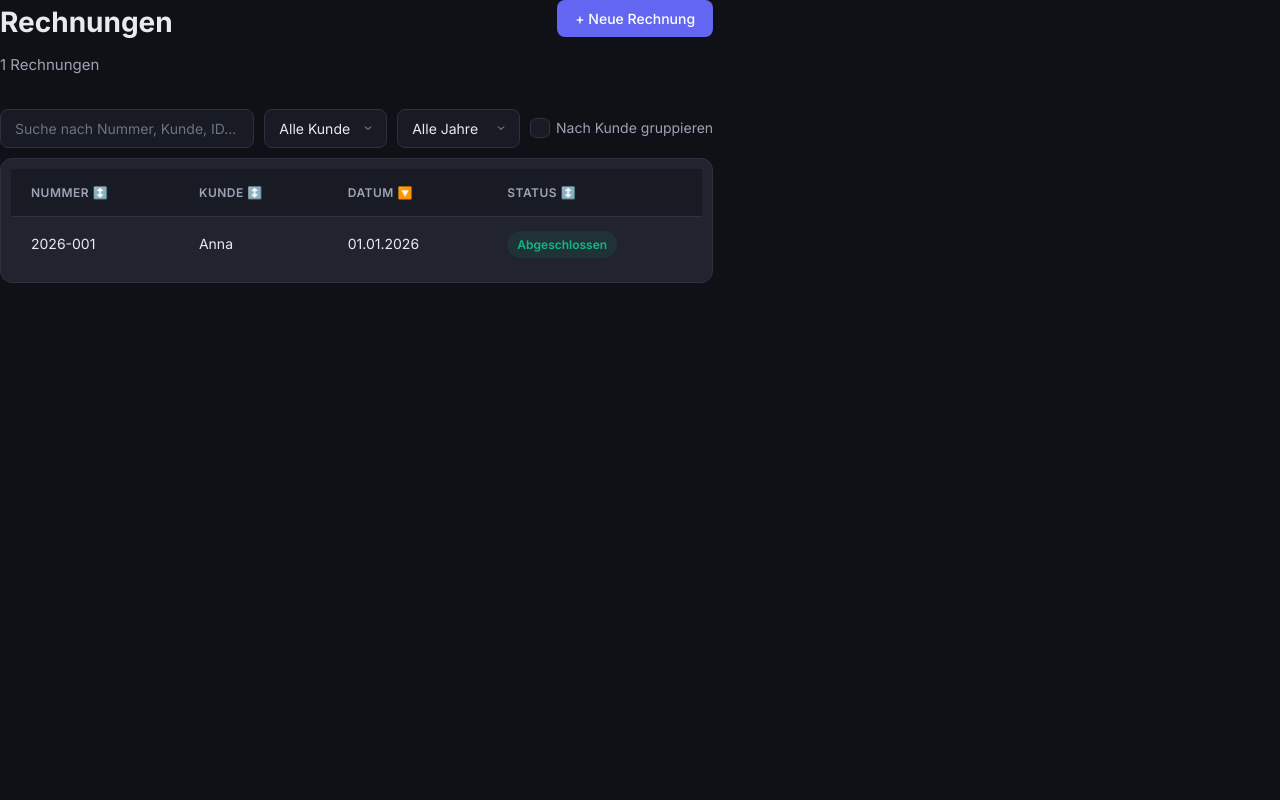
Test: Finale Rechnung ist gesperrt (#283) › Admin-Reset › sendet nichts bei zu kurzer Begründung
This screenshot has width=1280, height=800.
Click the text "2026-001" at (95,244), box [11, 216, 179, 272]
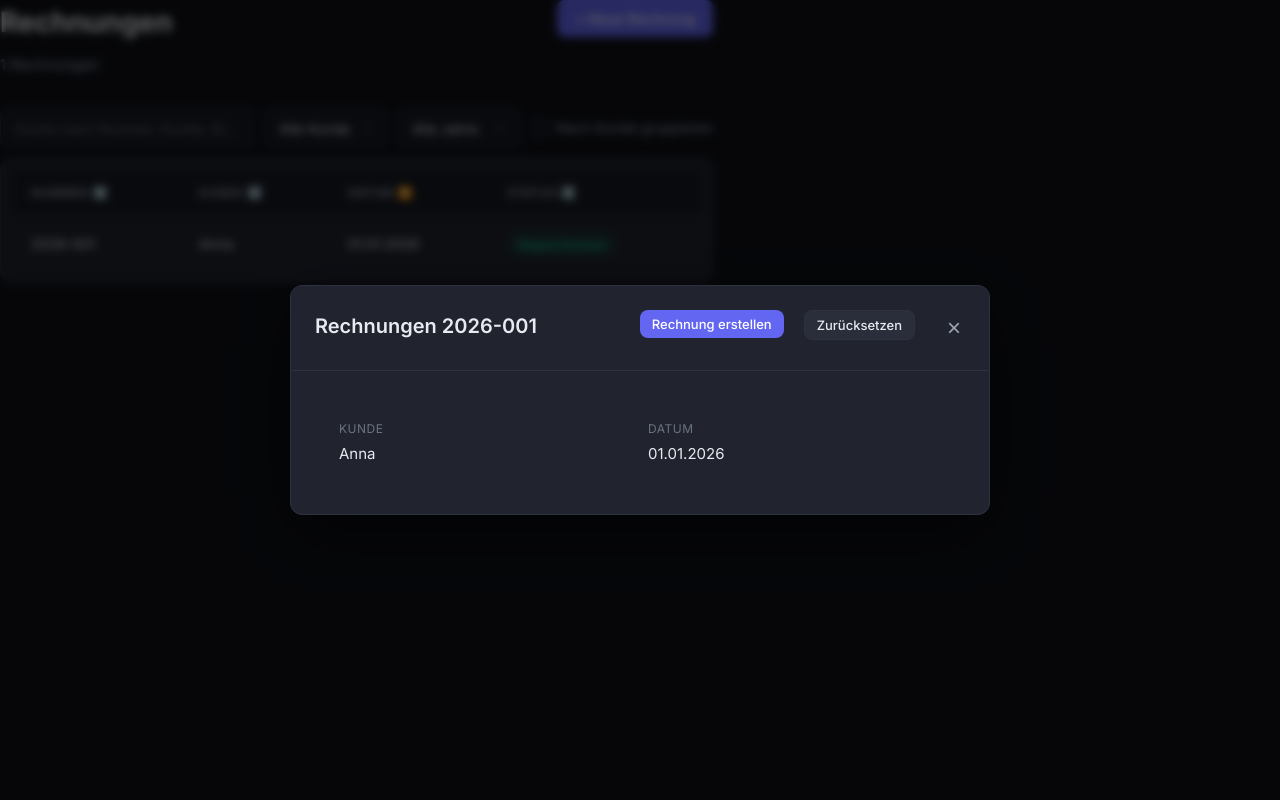
Check: the text "Kunde" is shown, box [339, 421, 383, 436]
Click the button "Zurücksetzen" at (859,325), box [804, 310, 915, 340]
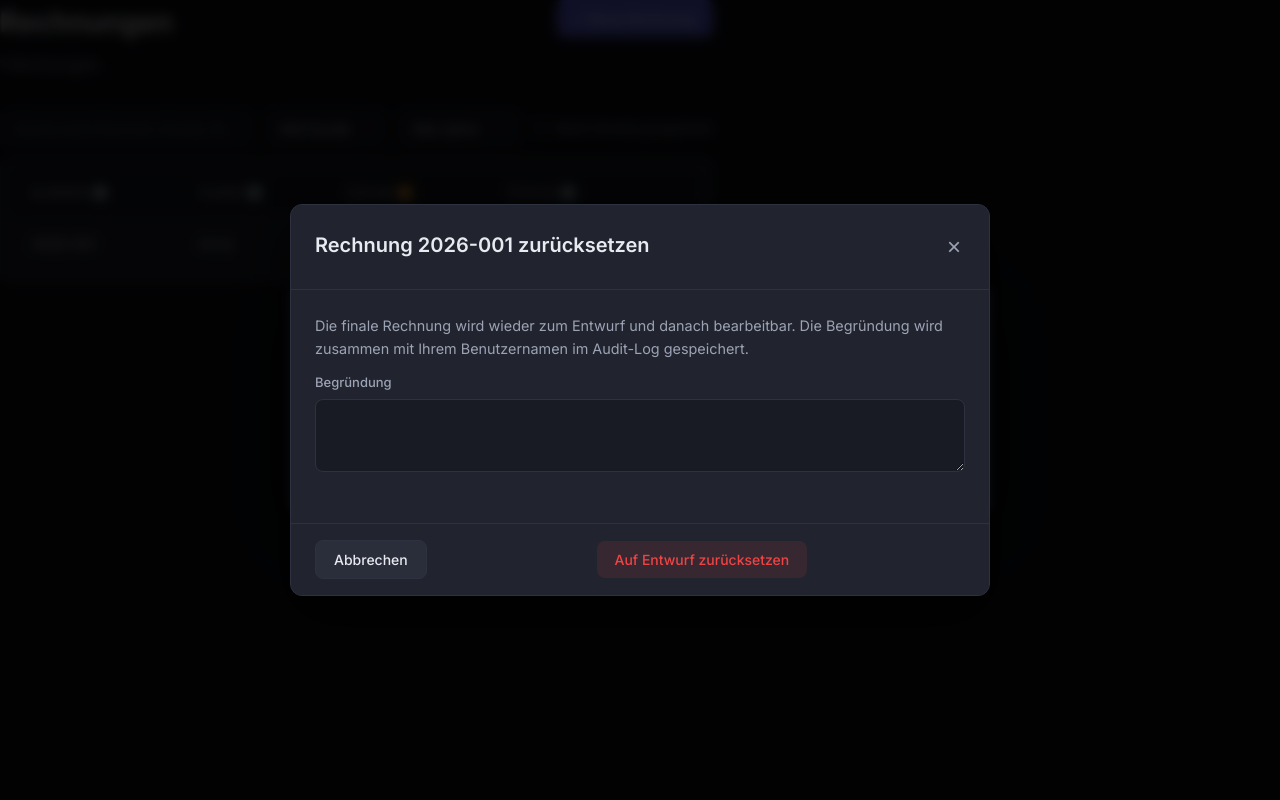
Type "kurz" into the text box labelled "Begründung" at (640,435), box [315, 399, 965, 472]
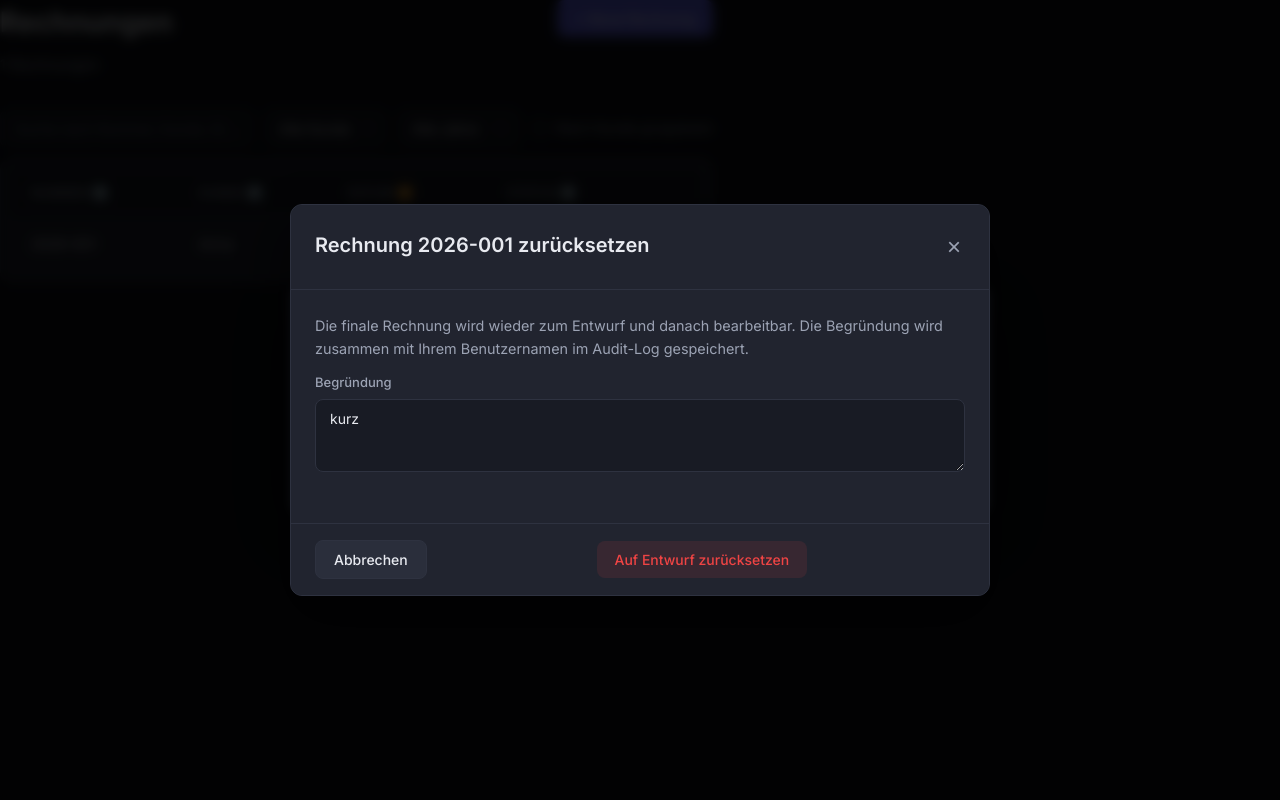
Click the button "Auf Entwurf zurücksetzen" at (702,560), box [596, 541, 807, 578]
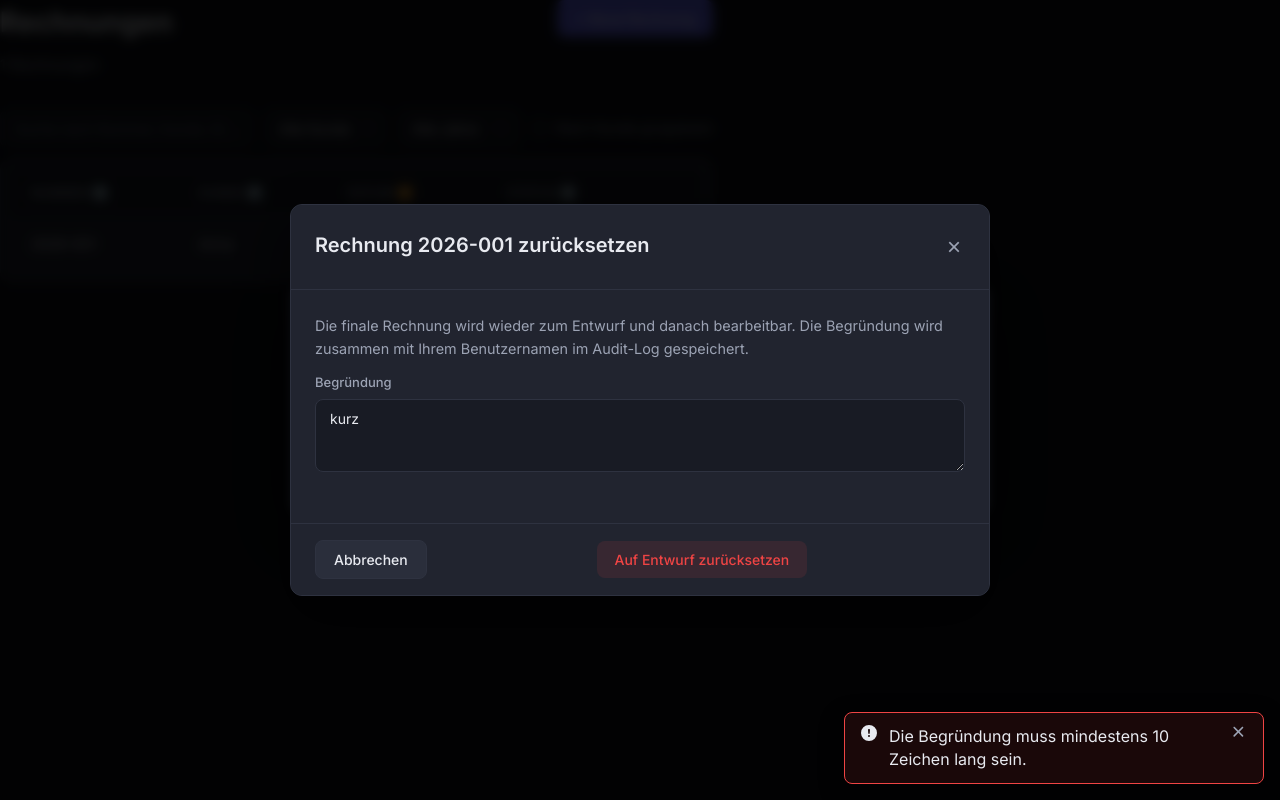
Check: the message shows "mindestens 10 Zeichen", box [889, 726, 1169, 769]
